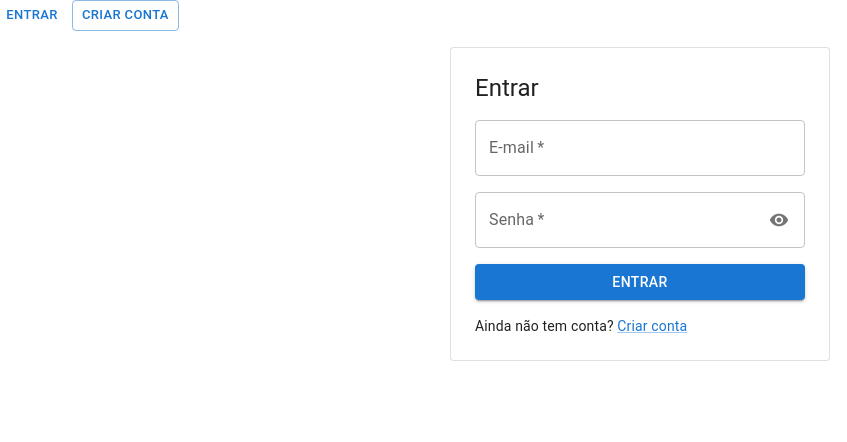
login and registration › says when the email or the password is wrong
Type "ana@example.com" into the field labelled "E-mail *" at (640, 148), box x1=475 y1=120 x2=805 y2=176
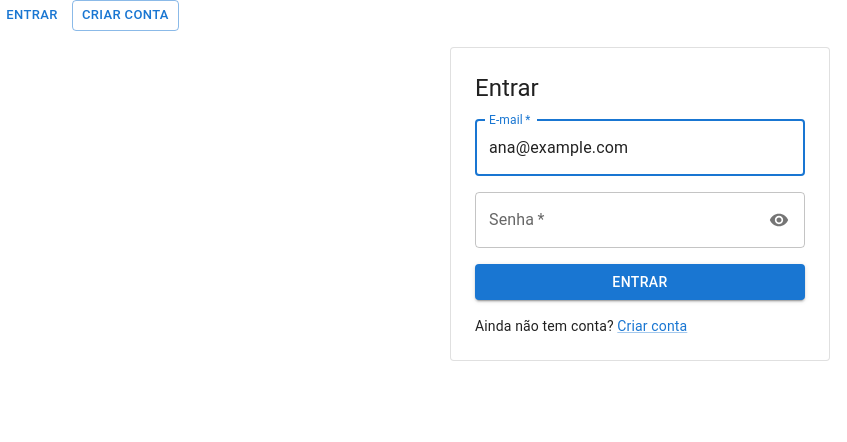
Type "wrong" into the password field labelled "Senha *" at (616, 220), box x1=475 y1=192 x2=756 y2=248
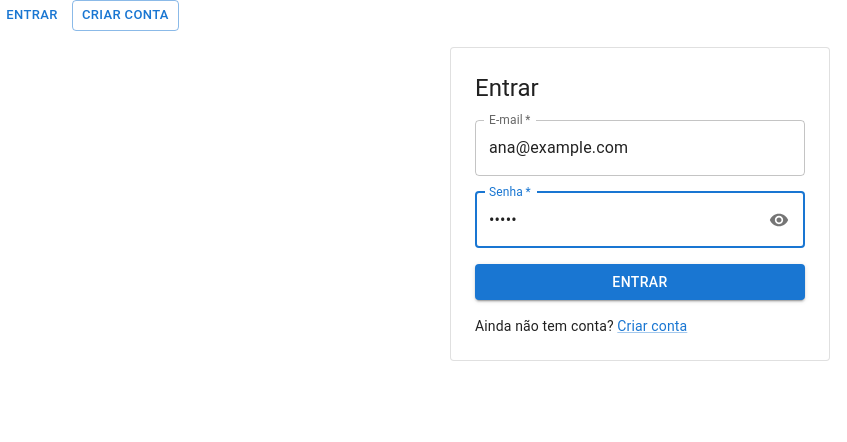
Click the button "Entrar" at (640, 282), box x1=475 y1=264 x2=805 y2=300
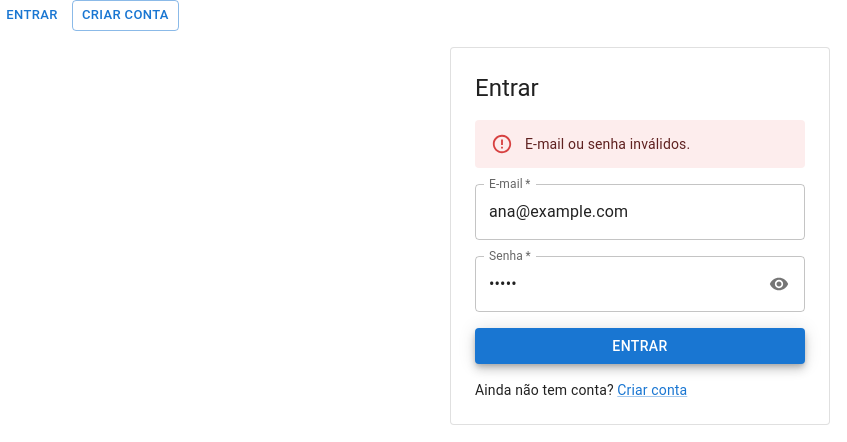
Now the text "E-mail ou senha inválidos." is shown, box x1=525 y1=136 x2=690 y2=152
